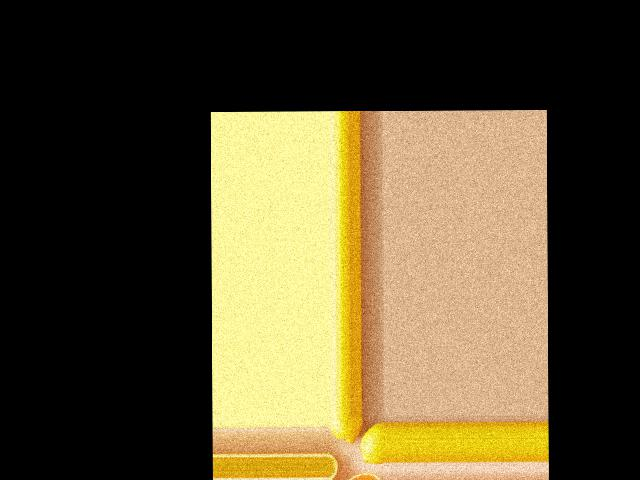lemon: (330, 416, 364, 446)
